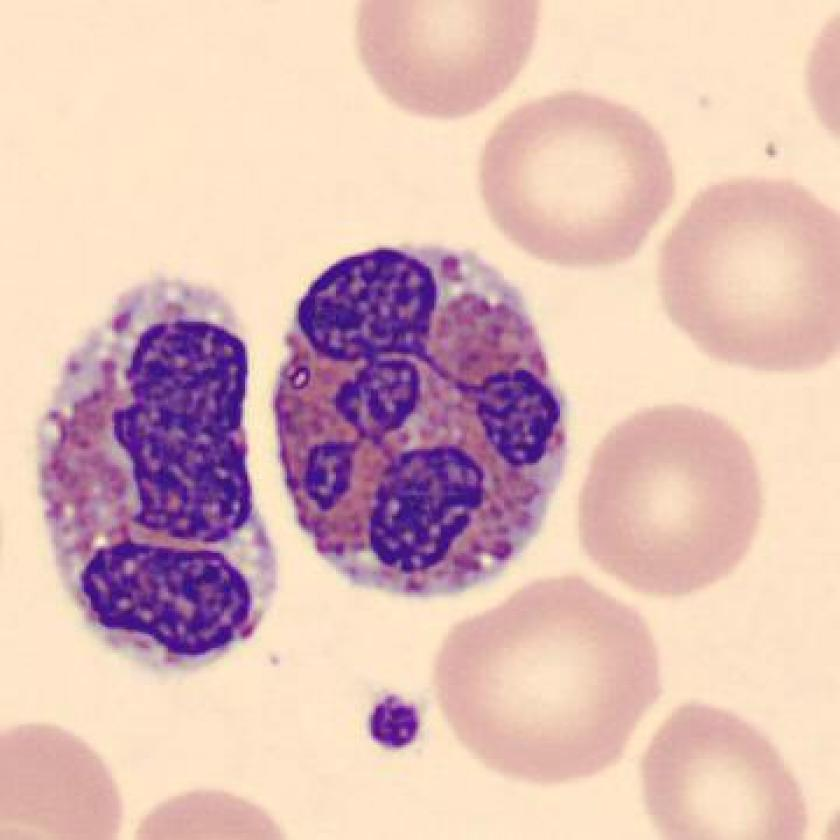eosinophil: (258, 228, 584, 614), (715, 485, 717, 487)
